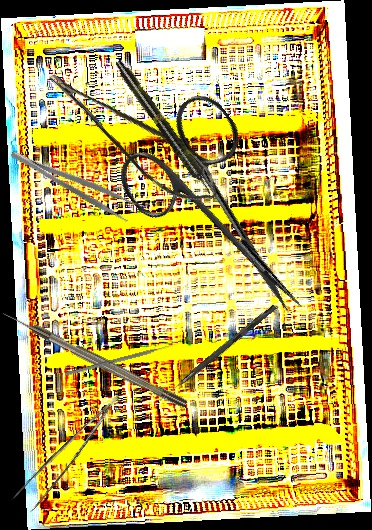Dressing Forceps: (8, 138, 138, 224)
Handpiece: (112, 57, 216, 198)
Hook Surgical: (1, 307, 188, 411), (158, 302, 277, 405)
Iris Scissors: (103, 85, 350, 350)
Micro Scissor: (43, 44, 230, 223)
Pusher: (64, 341, 181, 377)
Tissue Forceps: (7, 394, 136, 518)
